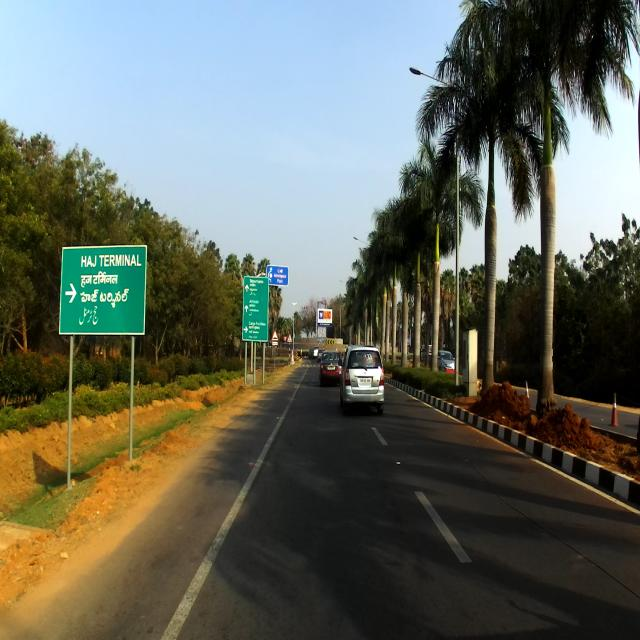barrier ahead at: (48, 232, 150, 486), (235, 263, 273, 398)
car ahead at: (338, 344, 387, 418)
